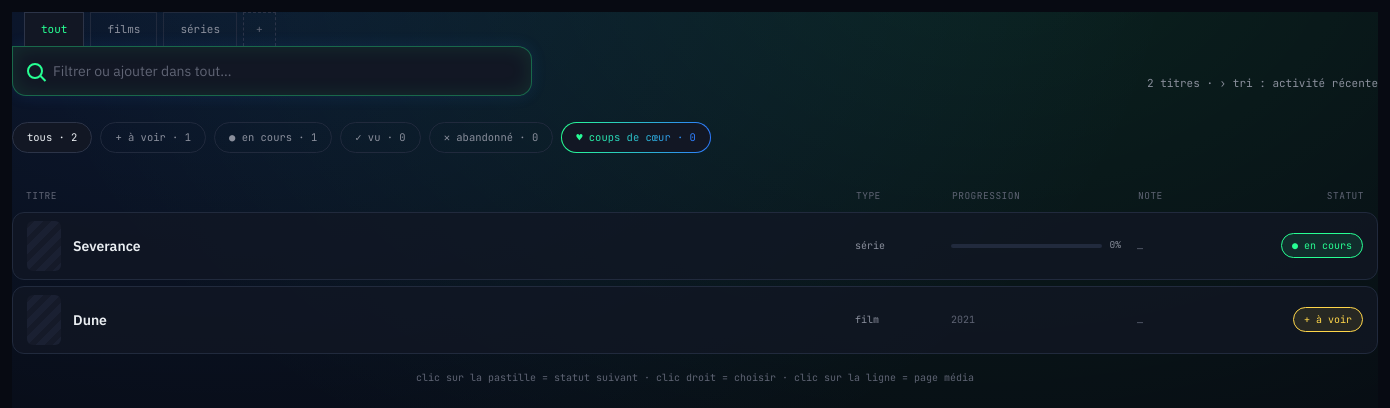
Test: bibliotheque › accorde le compteur d une chip avec la liste qu elle ouvre
Click the button "● en cours · 1".
click(273, 137)  # box [214,122,332,153]
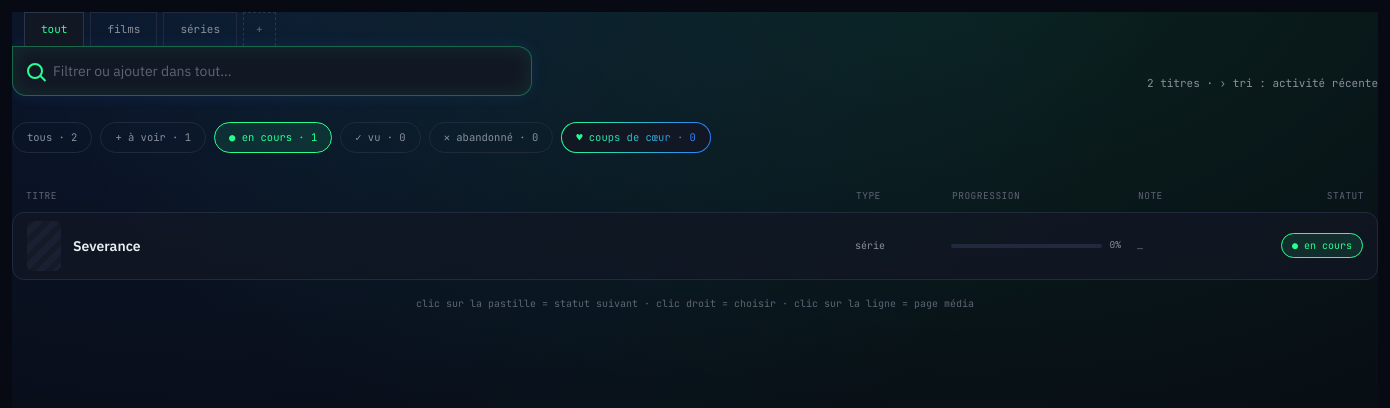
Expected: the text "Severance" is shown, [73,236,141,256]
Expected: the button "Dune" is gone
